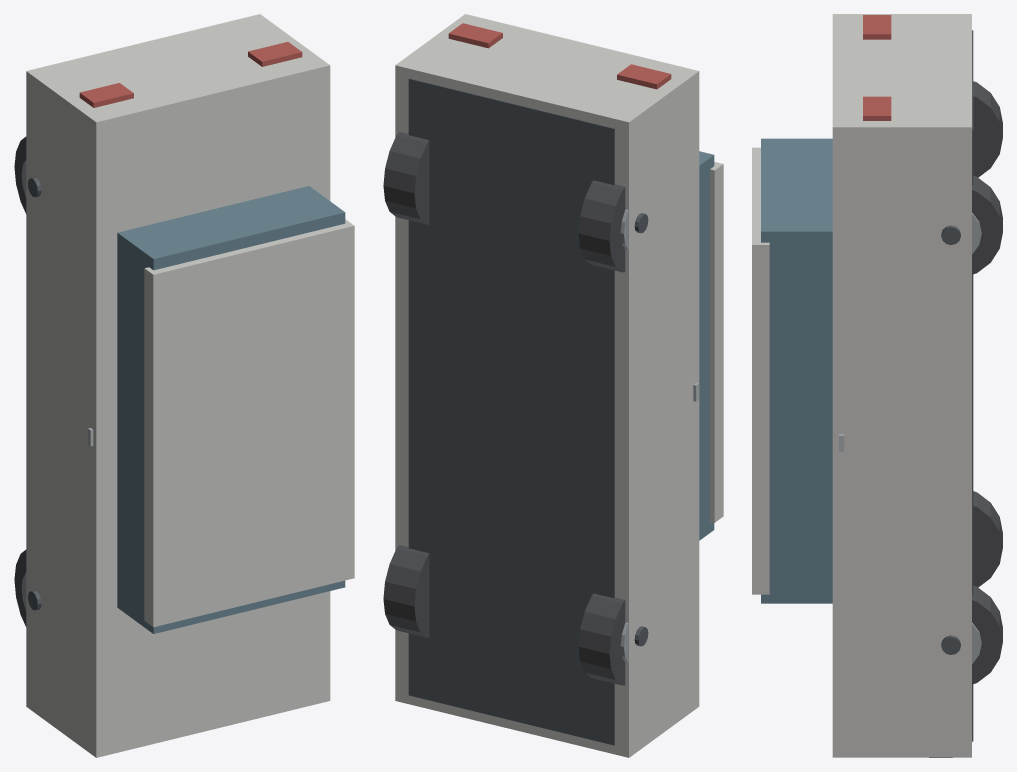
Rendered from rideshare_sedan.glb.
3 renders of one model, left to right at view 1: azimuth 30°, elevation 25°; view 2: azimuth 150°, elevation 25°; view 3: azimuth 270°, elevation 25°, orthographic.
Visible parts, largest first — view 1: 0000_Car_body, 0003_Roof, 0002_Cabin_glass, 0009_Tail_lamp, 0007_Tail_lamp, 0012_Wheel_tire, 0018_Wheel_tire; view 2: 0001_Chassis_black, 0000_Car_body, 0003_Roof, 0002_Cabin_glass, 0015_Wheel_tire, 0021_Wheel_tire, 0012_Wheel_tire, 0018_Wheel_tire, 0007_Tail_lamp, 0009_Tail_lamp; view 3: 0000_Car_body, 0002_Cabin_glass, 0003_Roof, 0012_Wheel_tire, 0018_Wheel_tire, 0021_Wheel_tire, 0015_Wheel_tire, 0001_Chassis_black, 0007_Tail_lamp, 0009_Tail_lamp.
Boxes of the visible parts, x1,y1,x2,y2 form: 0000_Car_body: (26,14,330,757); 0003_Roof: (144,219,354,627); 0002_Cabin_glass: (117,186,345,633); 0009_Tail_lamp: (248,42,302,66); 0007_Tail_lamp: (79,83,133,107); 0012_Wheel_tire: (14,549,26,626); 0018_Wheel_tire: (14,136,26,213); 0001_Chassis_black: (408,78,614,745); 0000_Car_body: (395,14,699,757); 0003_Roof: (710,162,723,522); 0002_Cabin_glass: (699,151,714,540); 0015_Wheel_tire: (383,545,429,637); 0021_Wheel_tire: (383,131,429,224); 0012_Wheel_tire: (578,593,625,685); 0018_Wheel_tire: (578,180,625,272); 0007_Tail_lamp: (617,64,671,89); 0009_Tail_lamp: (448,23,502,48); 0000_Car_body: (832,14,971,757); 0002_Cabin_glass: (761,138,832,603); 0003_Roof: (752,147,769,594); 0012_Wheel_tire: (973,491,1002,587); 0018_Wheel_tire: (973,81,1002,177); 0021_Wheel_tire: (972,175,1002,274); 0015_Wheel_tire: (972,585,1002,684); 0001_Chassis_black: (972,30,973,741); 0007_Tail_lamp: (863,15,891,39); 0009_Tail_lamp: (863,96,891,120).
Bounding box in the file's own units: 1.87 × 4.8 × 1.7.
